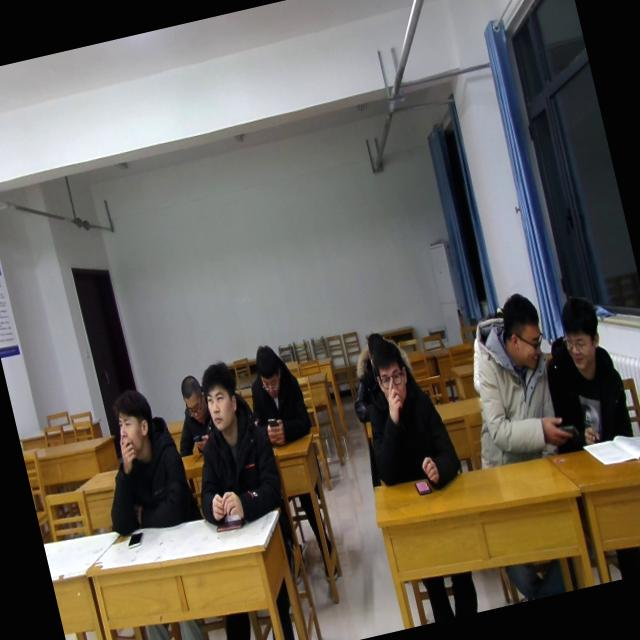bow: (239, 336, 315, 450)
down: (248, 336, 288, 401), (173, 366, 207, 424)
lookup: (192, 353, 250, 438), (106, 382, 164, 463), (363, 332, 417, 414)
sit: (443, 286, 572, 473), (168, 351, 292, 534), (343, 329, 468, 505), (80, 376, 202, 540), (529, 285, 637, 454), (160, 366, 219, 458)
